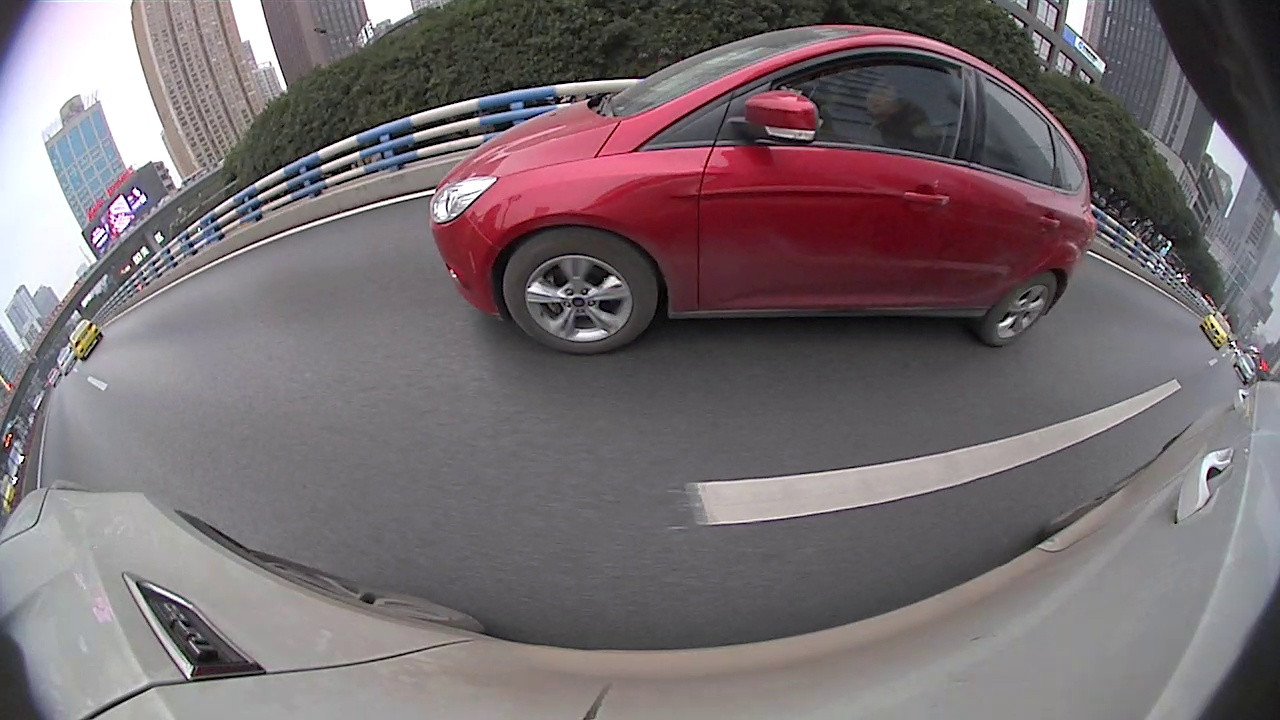car: (147, 134, 503, 348), (855, 150, 1087, 287), (1081, 221, 1218, 351), (1186, 327, 1277, 433), (726, 142, 818, 206), (620, 143, 702, 211), (507, 151, 573, 205)
front: (476, 194, 499, 240), (859, 194, 886, 232)
rear: (311, 239, 379, 330), (965, 225, 1012, 281), (1128, 294, 1167, 342), (743, 174, 757, 200)
